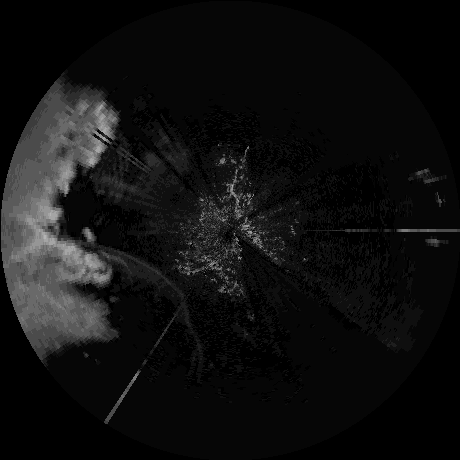frontgust: (95, 249, 203, 359)
